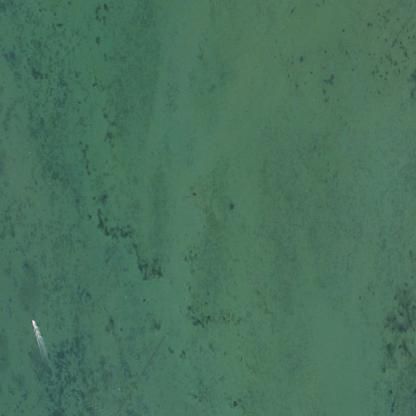ship: (26, 313, 44, 336)
